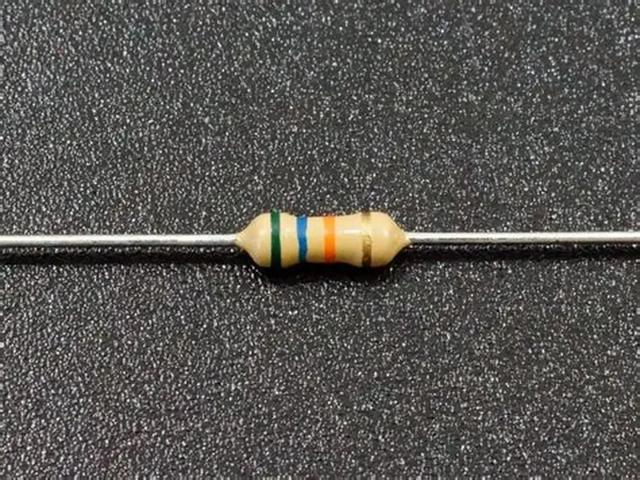blue: (296, 215, 309, 262)
gold: (362, 212, 371, 267)
green: (269, 213, 282, 268)
orange: (323, 216, 337, 262)
resistor: (233, 212, 410, 269)
